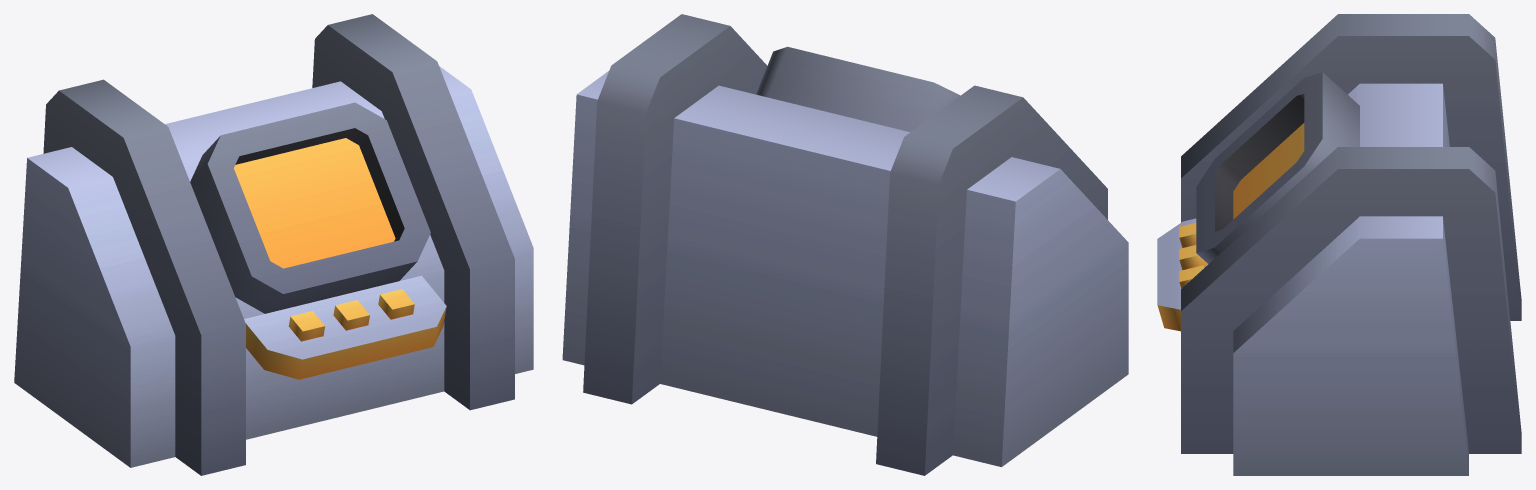
The model's file is station.computer_system.glb.
3 views of the same model, side by side, from view 1: azimuth 30°, elevation 25°; view 2: azimuth 150°, elevation 25°; view 3: azimuth 270°, elevation 25° (orthographic). The views are drawn at different scales.
Parts seen in each view (by area): view 1: computer-system; view 2: computer-system; view 3: computer-system.
Boxes of the visible parts, left/top/right/bottom form: computer-system: left=14, top=14, right=533, bottom=475; computer-system: left=562, top=14, right=1128, bottom=475; computer-system: left=1157, top=14, right=1521, bottom=475.
Size of the model in its own units: 1.55 by 1.04 by 1.2.
1 material, 1 textured.
